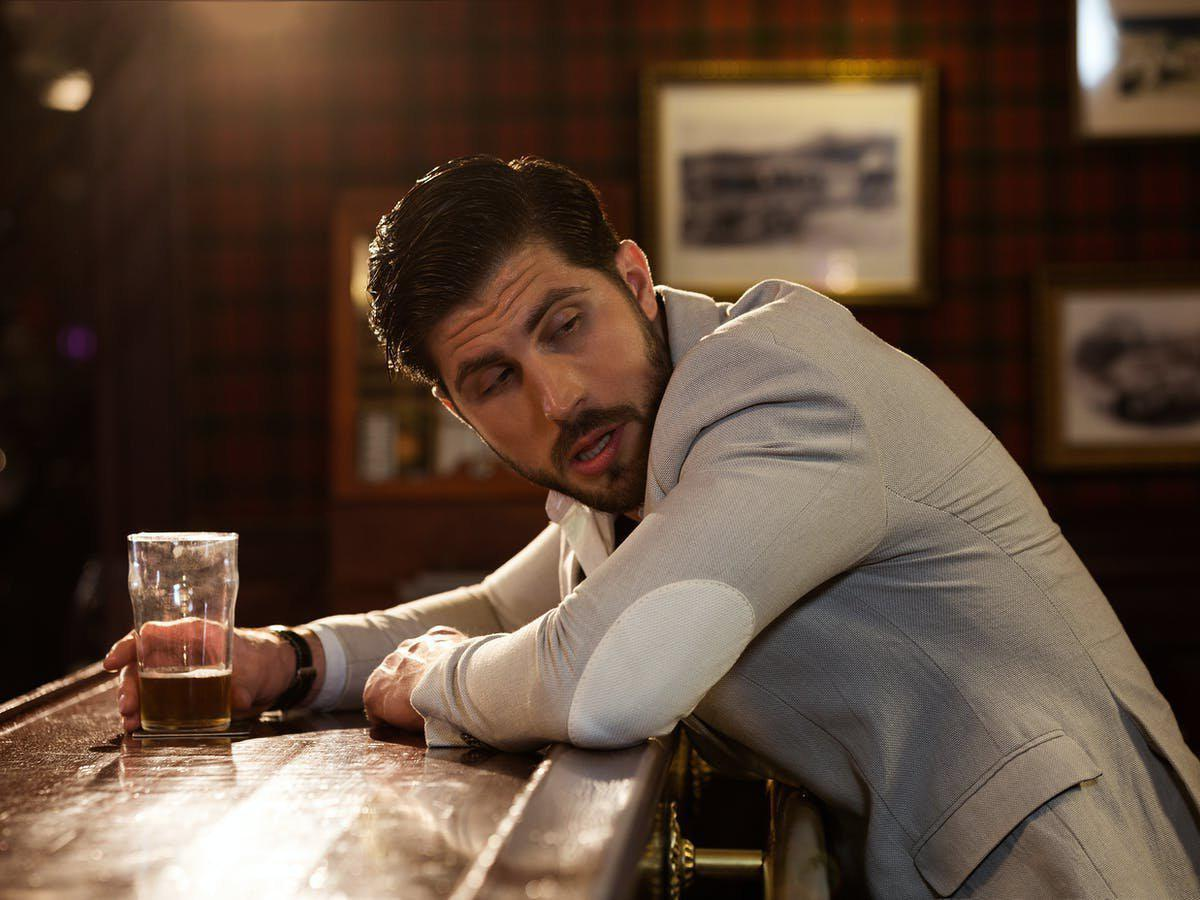Drunk: (423, 277, 644, 502)
